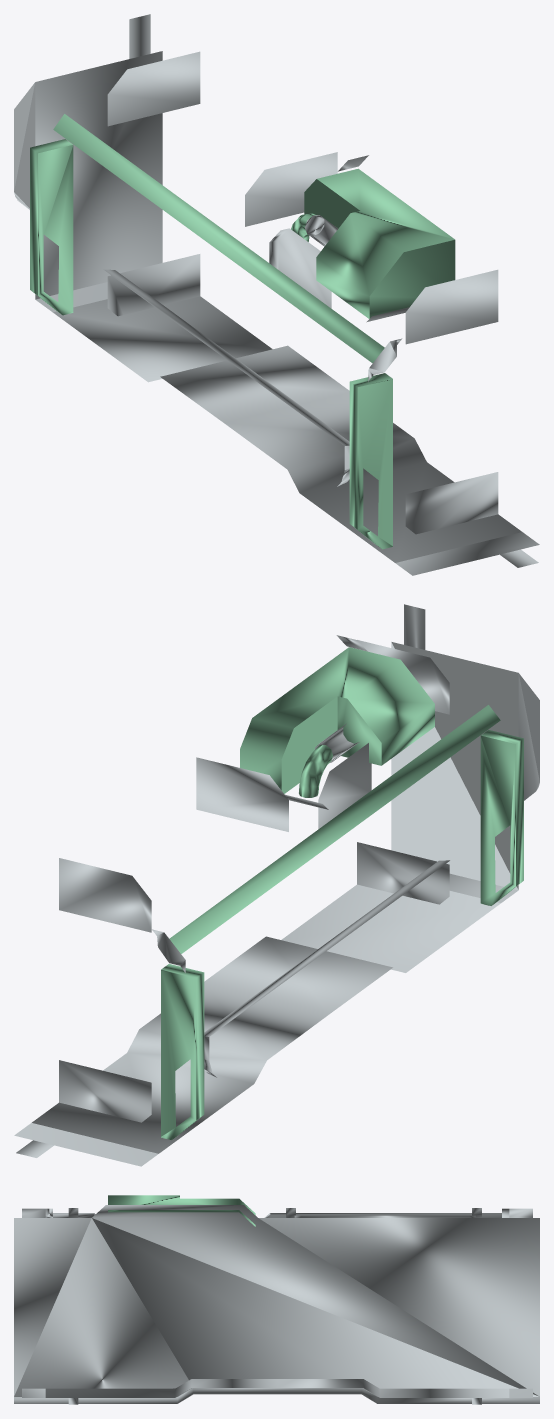
The model's file is roomlg_b_addon_generator_01x305x105_lod2.glb.
3 views of the same model, one above another, from view 1: azimuth 30°, elevation 25°; view 2: azimuth 150°, elevation 25°; view 3: azimuth 270°, elevation 25° (orthographic). The views are drawn at different scales.
Bounding box in the file's own units: 0.8434 × 1.45 × 3.6.
